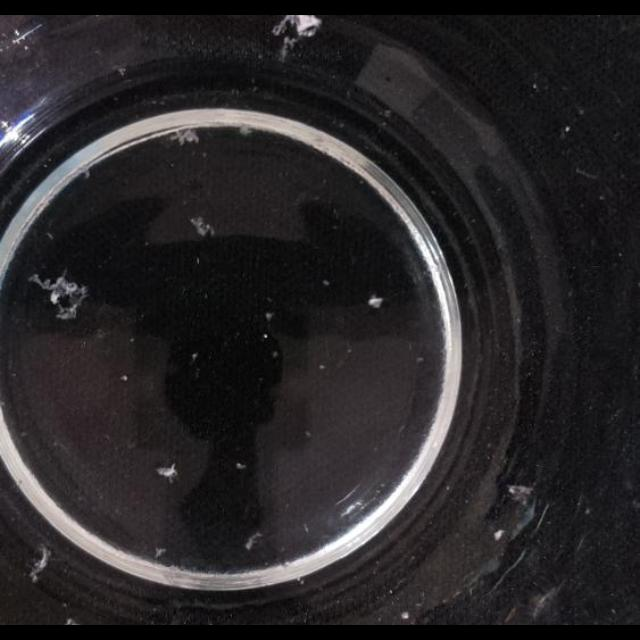Fibre: (33, 270, 91, 320), (272, 16, 322, 58), (30, 546, 50, 584), (190, 215, 216, 237), (173, 128, 201, 148), (156, 462, 178, 483), (244, 532, 264, 552), (154, 547, 168, 559)
microbeads: (368, 295, 384, 309), (494, 530, 504, 542), (400, 610, 410, 620), (191, 352, 199, 362), (266, 312, 274, 322), (64, 618, 74, 626), (322, 278, 330, 286), (304, 430, 312, 438), (120, 374, 128, 382), (416, 356, 424, 364), (235, 462, 245, 468), (272, 350, 278, 358), (318, 364, 326, 370), (130, 336, 136, 344), (196, 256, 200, 266), (262, 333, 268, 339), (564, 126, 570, 132), (298, 578, 304, 584)
